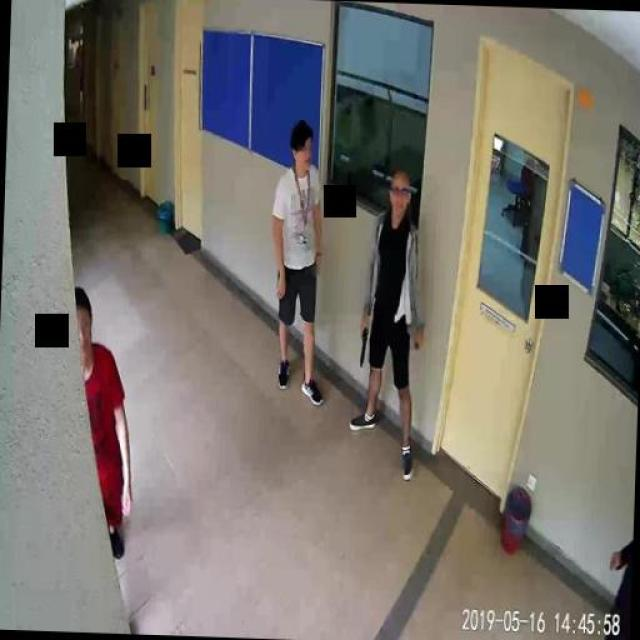gun: (355, 321, 366, 365)
